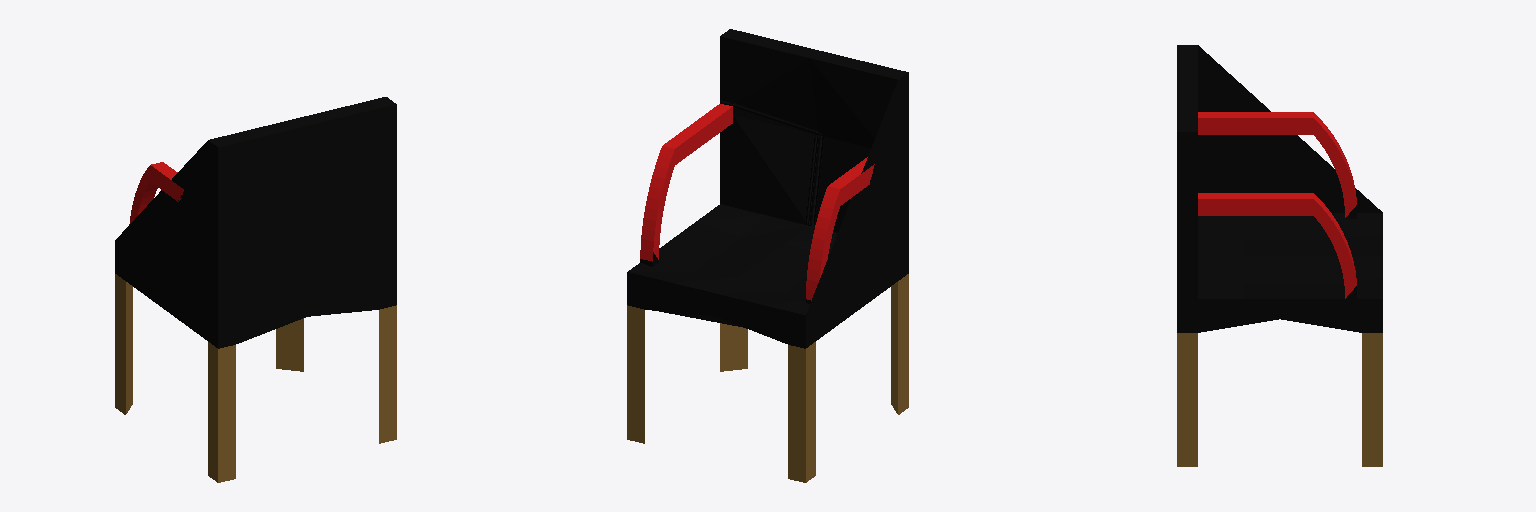
The picture shows the model from 3 angles: view 1: azimuth 30°, elevation 25°; view 2: azimuth 150°, elevation 25°; view 3: azimuth 270°, elevation 25°; orthographic projection.
Visible parts, largest first — view 1: Cubo.017_Cubo.034; view 2: Cubo.017_Cubo.034; view 3: Cubo.017_Cubo.034.
Part boxes in pixels (bbox=[...]): Cubo.017_Cubo.034: bbox=[115, 97, 396, 482]; Cubo.017_Cubo.034: bbox=[627, 29, 908, 482]; Cubo.017_Cubo.034: bbox=[1177, 45, 1382, 466].
Size of the model in its own units: 0.5 by 0.9 by 0.5.
Materials: 1 (1 with a texture image).